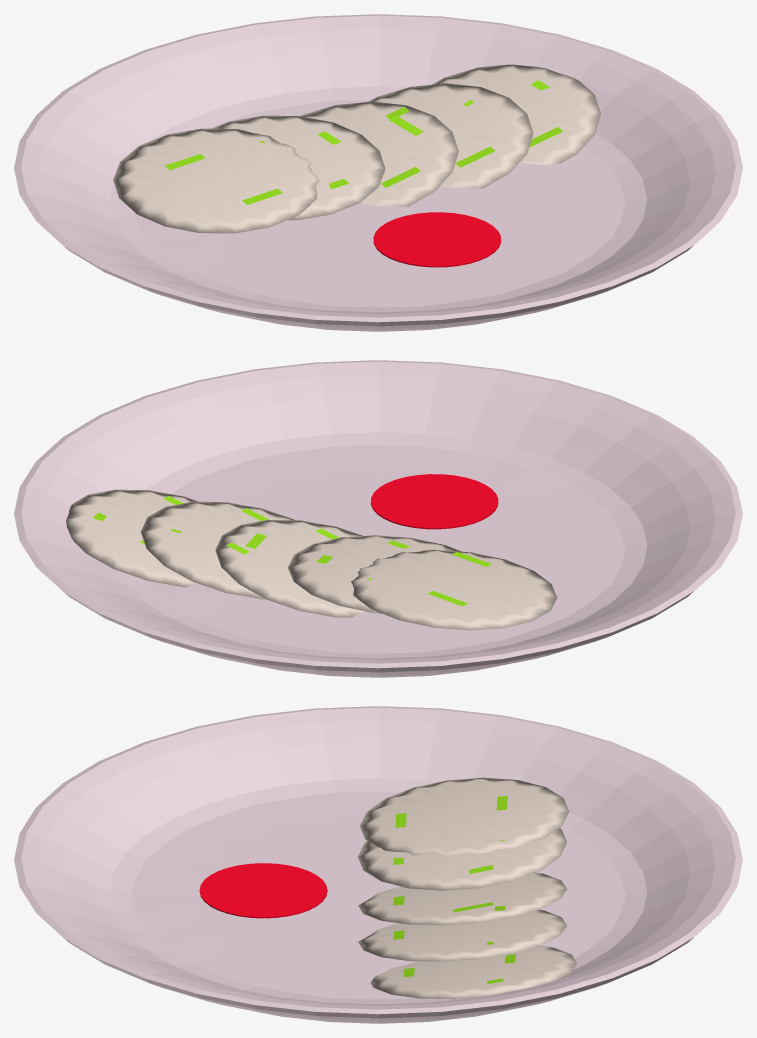
Rendered from cireng.fbx.
3 renders of one model, top to bottom at view 1: azimuth 30°, elevation 25°; view 2: azimuth 150°, elevation 25°; view 3: azimuth 270°, elevation 25°, orthographic.
Parts seen in each view (by area): view 1: Cylinder, Cylinder.005, Cylinder.001, Cylinder.002, Cylinder.003, Cylinder.004, Cylinder.006; view 2: Cylinder, Cylinder.005, Cylinder.002, Cylinder.003, Cylinder.001, Cylinder.006, Cylinder.004; view 3: Cylinder, Cylinder.005, Cylinder.001, Cylinder.003, Cylinder.004, Cylinder.002, Cylinder.006.
Part boxes in pixels (bbox=[...]): Cylinder: bbox=[14, 14, 742, 331]; Cylinder.005: bbox=[113, 128, 319, 233]; Cylinder.001: bbox=[368, 83, 533, 188]; Cylinder.002: bbox=[301, 101, 458, 206]; Cylinder.003: bbox=[432, 64, 600, 164]; Cylinder.004: bbox=[212, 115, 385, 220]; Cylinder.006: bbox=[373, 212, 501, 267]; Cylinder: bbox=[14, 360, 742, 677]; Cylinder.005: bbox=[351, 549, 557, 630]; Cylinder.002: bbox=[215, 519, 365, 617]; Cylinder.003: bbox=[66, 489, 198, 587]; Cylinder.001: bbox=[141, 501, 294, 599]; Cylinder.006: bbox=[370, 474, 498, 529]; Cylinder.004: bbox=[288, 535, 461, 613]; Cylinder: bbox=[14, 706, 742, 1023]; Cylinder.005: bbox=[359, 777, 569, 855]; Cylinder.001: bbox=[358, 909, 566, 961]; Cylinder.003: bbox=[370, 946, 577, 999]; Cylinder.004: bbox=[357, 828, 567, 890]; Cylinder.002: bbox=[358, 872, 567, 925]; Cylinder.006: bbox=[199, 863, 327, 918].
Bounding box in the file's own units: 231 × 19.71 × 231.
